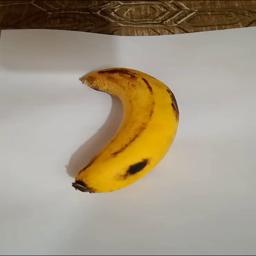Banana Semifresh: (67, 65, 182, 191)
